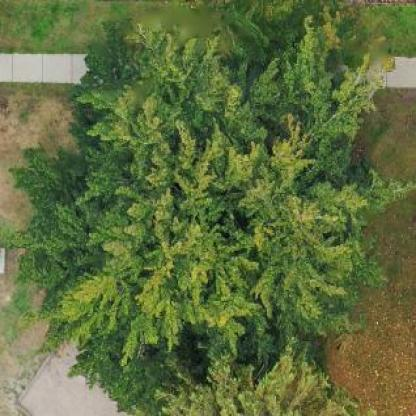Coniferous Tree: (16, 31, 384, 372), (130, 378, 371, 416)
